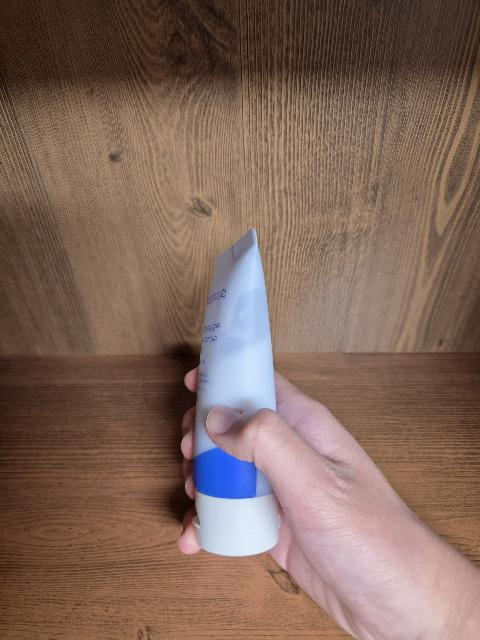handcream: (193, 228, 281, 557)
